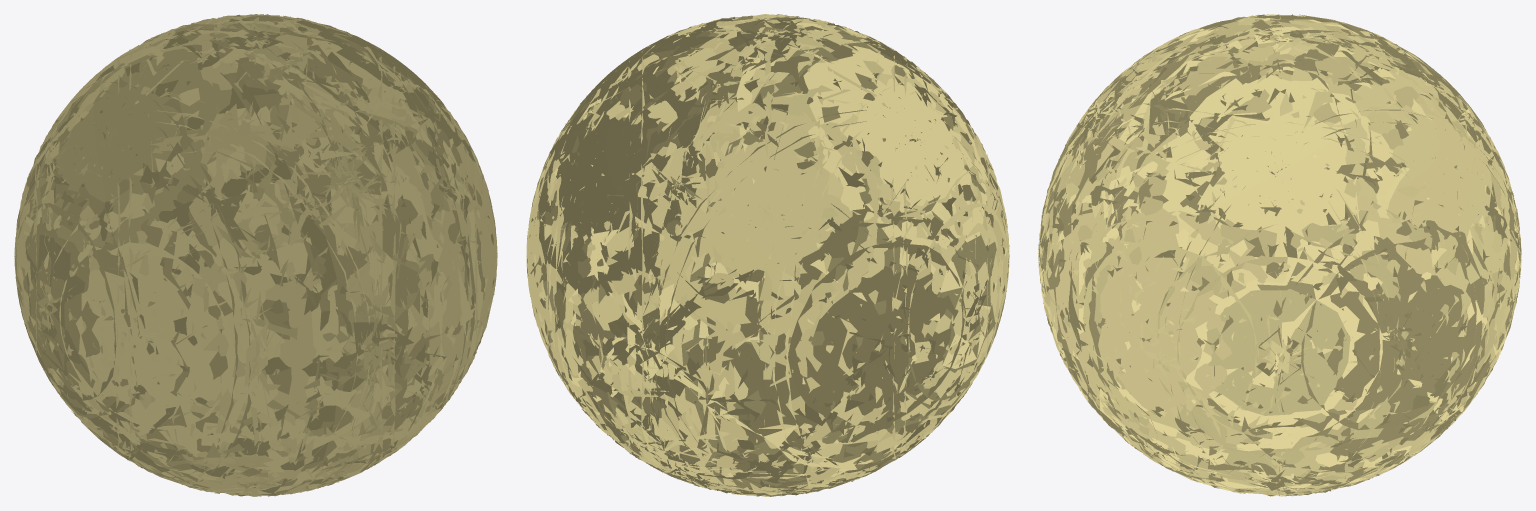
The model's file is sys-dsf-lighting.glb.
3 renders of one model, left to right at view 1: azimuth 30°, elevation 25°; view 2: azimuth 150°, elevation 25°; view 3: azimuth 270°, elevation 25°, orthographic.
Visible parts, largest first — view 1: TS-dsf-lighting-1688, TS-dsf-lighting-1685, TS-dsf-lighting-1686; view 2: TS-dsf-lighting-1686, TS-dsf-lighting-1688, TS-dsf-lighting-1685; view 3: TS-dsf-lighting-1688, TS-dsf-lighting-1686, TS-dsf-lighting-1685.
Boxes of the visible parts, x1,y1,x2,y2 form: TS-dsf-lighting-1688: [14, 15, 497, 496]; TS-dsf-lighting-1685: [15, 14, 496, 496]; TS-dsf-lighting-1686: [14, 14, 497, 496]; TS-dsf-lighting-1686: [526, 14, 1009, 495]; TS-dsf-lighting-1688: [526, 14, 1009, 496]; TS-dsf-lighting-1685: [526, 14, 1008, 496]; TS-dsf-lighting-1688: [1038, 14, 1521, 496]; TS-dsf-lighting-1686: [1038, 14, 1521, 496]; TS-dsf-lighting-1685: [1038, 14, 1521, 496].
Size of the model in its own units: 2 by 2 by 2.
